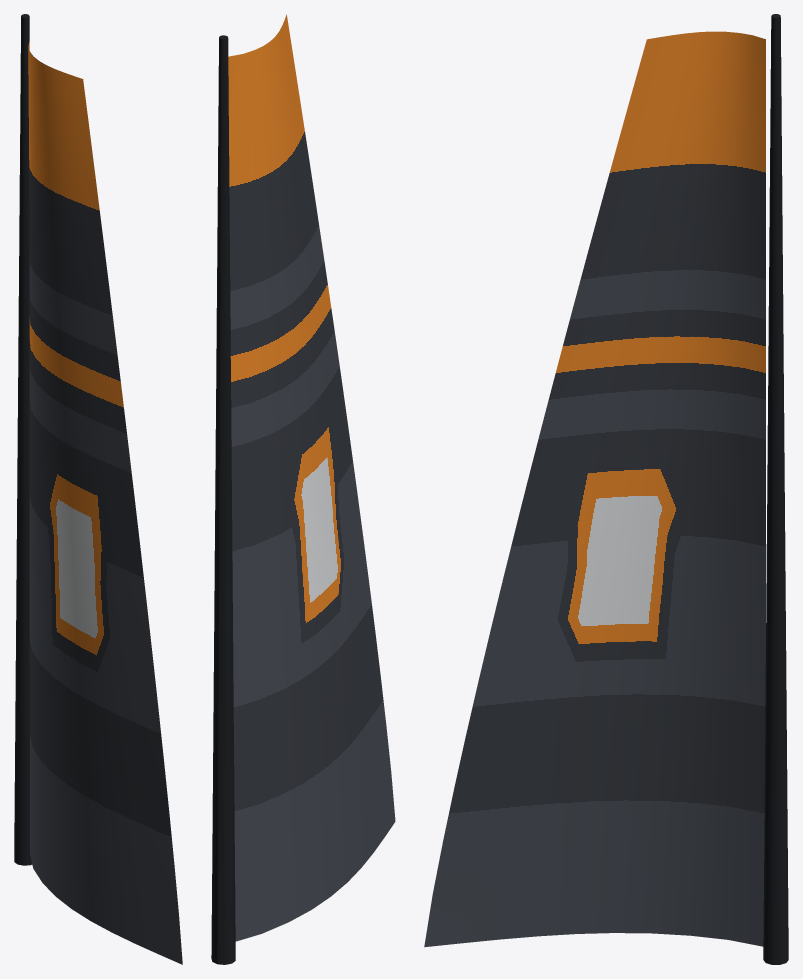
Rendered from rig_5_p.glb.
The picture shows the model from 3 angles, left to right: view 1: azimuth 30°, elevation 25°; view 2: azimuth 150°, elevation 25°; view 3: azimuth 270°, elevation 25°; orthographic projection. The views are drawn at different scales.
Visible parts, largest first — view 1: rig_5_p_body; view 2: rig_5_p_body; view 3: rig_5_p_body.
Part boxes in pixels (left/top/right/bottom): rig_5_p_body: left=14, top=14, right=182, bottom=964; rig_5_p_body: left=211, top=14, right=395, bottom=964; rig_5_p_body: left=424, top=14, right=788, bottom=964.
Size of the model in its own units: 1.15 by 26.2 by 9.17.
Materials: 1 (1 with a texture image).
